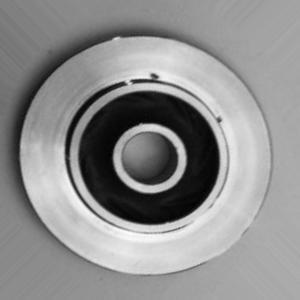defect: (149, 70, 228, 129)
